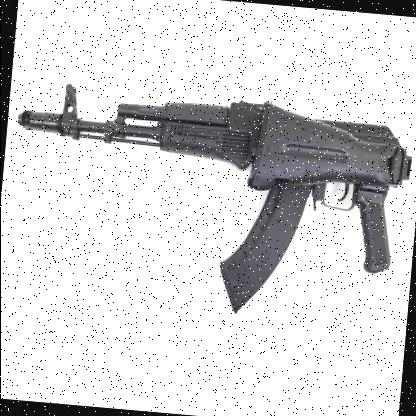rifle: (0, 40, 415, 331)
